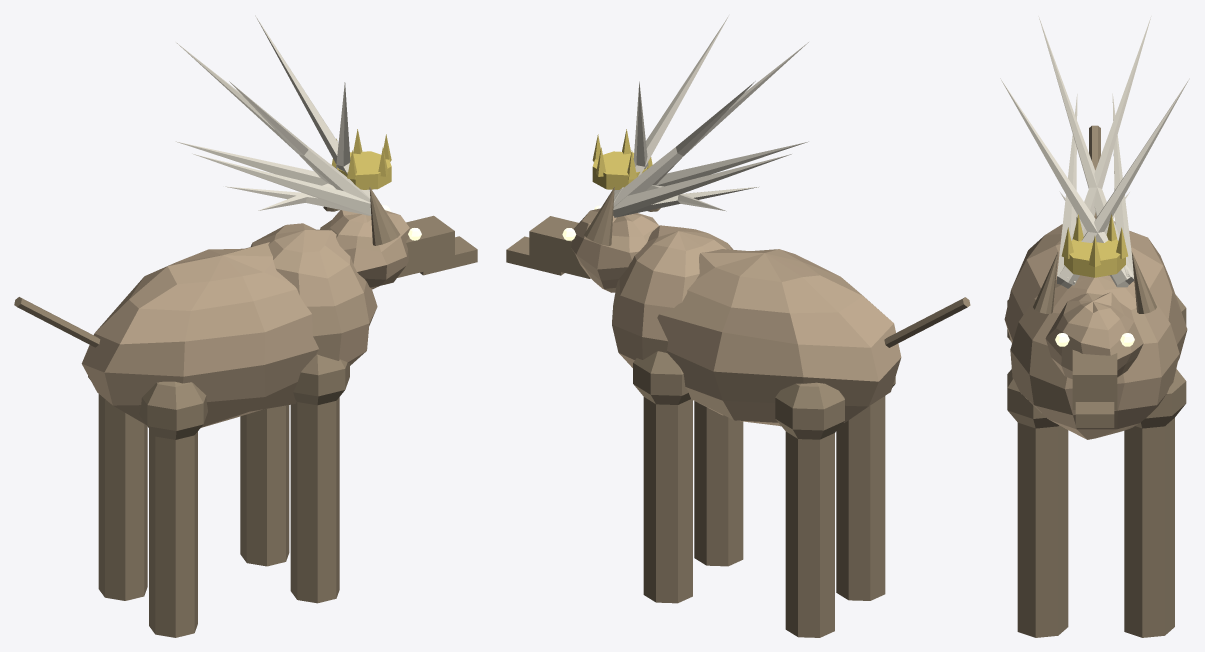
File: stag_king.glb
3 renders of one model, left to right at view 1: azimuth 30°, elevation 25°; view 2: azimuth 150°, elevation 25°; view 3: azimuth 270°, elevation 25°, orthographic. The views are drawn at different scales.
Parts seen in each view (by area): view 1: body, legFR, legBR, legBL, chest, legFL, skull, hip.003, snoutm, hip.001, tine.002, tine.001 (+9 smaller); view 2: body, legBL, legFL, legBR, chest, legFR, skull, hip.002, snoutm, hip, tine.006, tine.005 (+9 smaller); view 3: chest, legFR, legFL, skull, body, snoutm, tine, tine.004, band, tine.005, tine.001, hip (+7 smaller).
Part boxes in pixels (x1,y1,x2,y2): body: [81, 242, 318, 427]; legFR: [290, 397, 339, 603]; legBR: [149, 428, 197, 637]; legBL: [98, 394, 147, 600]; chest: [250, 223, 377, 365]; legFL: [240, 405, 289, 566]; skull: [320, 210, 409, 289]; hip.003: [139, 381, 207, 439]; snoutm: [397, 215, 454, 277]; hip.001: [293, 354, 349, 405]; tine.002: [192, 153, 371, 215]; tine.001: [176, 42, 370, 202]; body: [657, 249, 901, 426]; legBL: [785, 431, 834, 637]; legFL: [643, 397, 692, 603]; legBR: [836, 396, 885, 600]; chest: [612, 225, 733, 367]; legFR: [694, 401, 743, 566]; skull: [571, 208, 658, 292]; hip.002: [775, 382, 844, 439]; snoutm: [529, 216, 590, 278]; hip: [633, 351, 690, 404]; tine.006: [613, 154, 791, 217]; tine.005: [613, 42, 808, 207]; chest: [1010, 275, 1179, 439]; legFR: [1017, 422, 1068, 637]; legFL: [1124, 418, 1174, 637]; skull: [1045, 292, 1143, 378]; body: [1004, 216, 1187, 360]; snoutm: [1072, 350, 1117, 409]; tine: [1058, 78, 1189, 285]; tine.004: [1000, 78, 1132, 284]; band: [1064, 239, 1125, 277]; tine.005: [1038, 16, 1133, 277]; tine.001: [1057, 16, 1151, 282]; hip: [1135, 369, 1186, 428].
Bounding box in the file's own units: 2.97 × 3.35 × 1.03.
